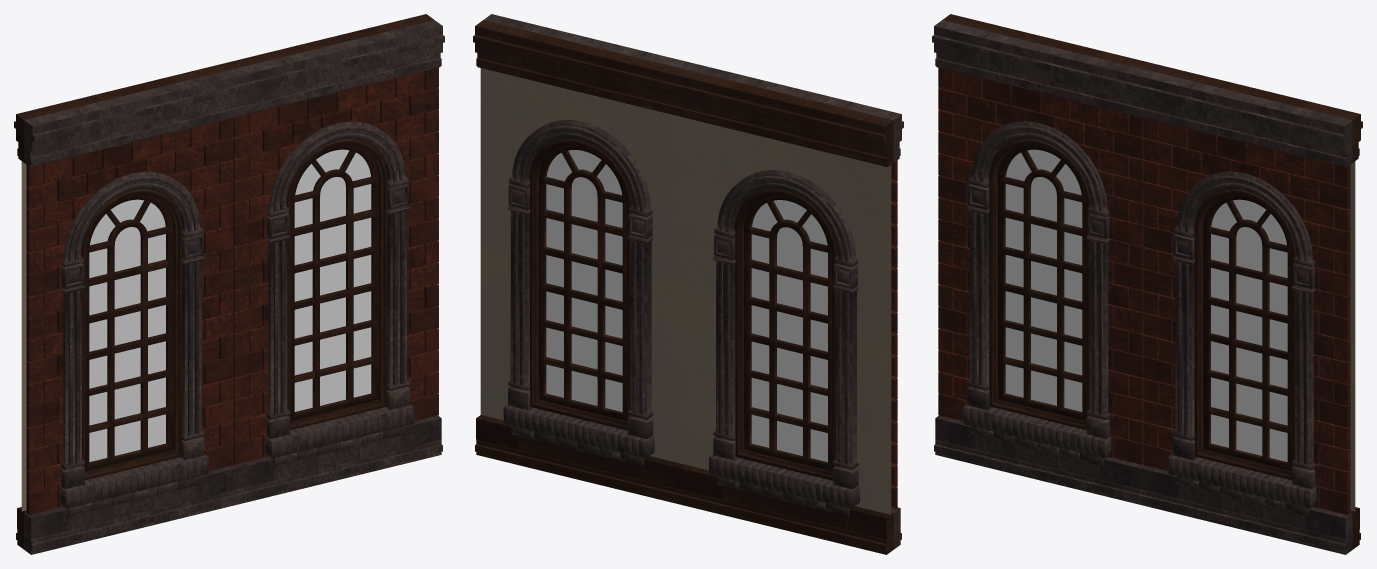
Rendered from SK3 WINDOW 2.fbx.
The picture shows the model from 3 angles, left to right: view 1: azimuth 30°, elevation 25°; view 2: azimuth 150°, elevation 25°; view 3: azimuth 330°, elevation 25°; orthographic projection.
Parts seen in each view (by area): view 1: SK3 WINDOW 2; view 2: SK3 WINDOW 2; view 3: SK3 WINDOW 2.
Boxes of the visible parts, x1=… form: SK3 WINDOW 2: x1=14, y1=14, x2=444, y2=554; SK3 WINDOW 2: x1=473, y1=14, x2=903, y2=554; SK3 WINDOW 2: x1=932, y1=14, x2=1362, y2=554.
Size of the model in its own units: 400 by 400 by 37.1.
